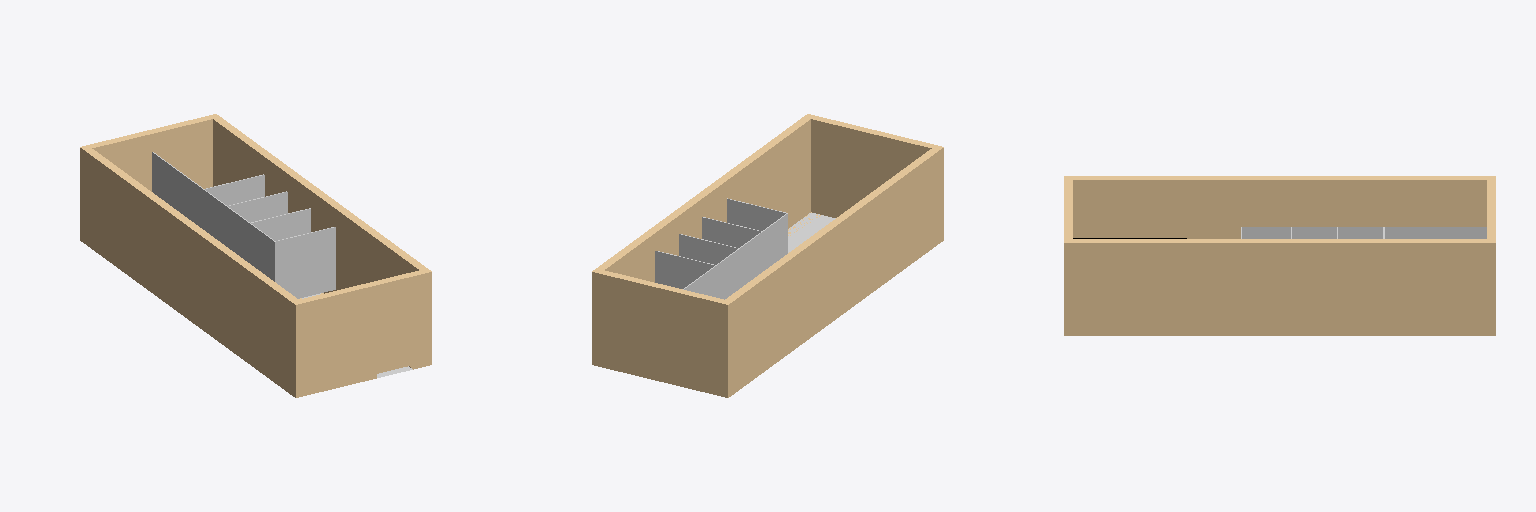
File: bathroom_test.obj
3 views of the same model, side by side, from view 1: azimuth 30°, elevation 25°; view 2: azimuth 150°, elevation 25°; view 3: azimuth 270°, elevation 25° (orthographic).
Parts seen in each view (by area): view 1: object_4, object_5, object_11, object_17, object_21, object_13, object_16, object_10, object_20, object_7; view 2: object_4, object_17, object_5, object_11, object_21, object_1, object_7, object_10, object_20; view 3: object_4, object_13.
Boxes of the visible parts, <box> form: object_4: <box>80,114,431,397</box>; object_5: <box>276,227,335,298</box>; object_11: <box>251,208,310,240</box>; object_17: <box>205,174,264,205</box>; object_21: <box>228,191,287,222</box>; object_13: <box>152,152,178,210</box>; object_16: <box>183,174,201,227</box>; object_10: <box>229,208,246,260</box>; object_20: <box>206,191,224,243</box>; object_7: <box>252,225,269,277</box>; object_4: <box>592,114,943,397</box>; object_17: <box>655,251,714,288</box>; object_5: <box>727,198,785,230</box>; object_11: <box>702,217,761,247</box>; object_21: <box>679,234,738,264</box>; object_1: <box>788,213,835,252</box>; object_7: <box>765,216,783,269</box>; object_10: <box>741,233,760,286</box>; object_20: <box>718,250,737,299</box>; object_4: <box>1064,176,1495,335</box>; object_13: <box>1435,227,1486,238</box>.
Bounding box in the file's own units: 3.47 × 2.26 × 9.5.